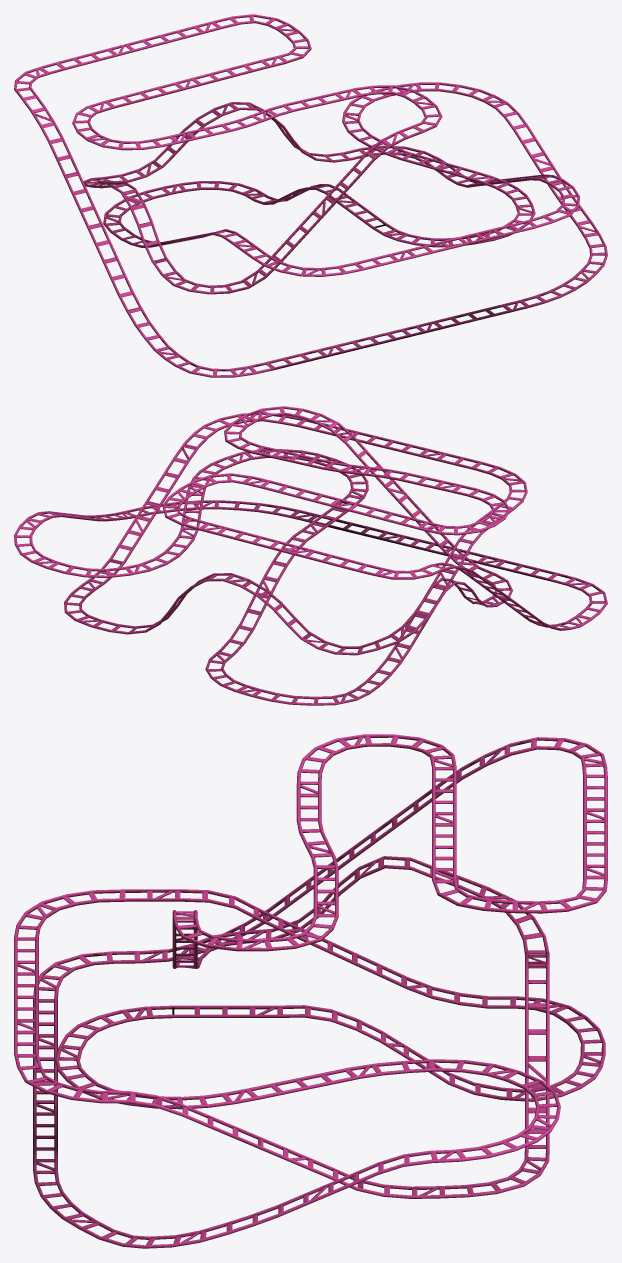
File: schiene.fbx
3 renders of one model, top to bottom at view 1: azimuth 30°, elevation 25°; view 2: azimuth 150°, elevation 25°; view 3: azimuth 270°, elevation 25°, orthographic. The views are drawn at different scales.
Parts seen in each view (by area): view 1: Mesh; view 2: Mesh; view 3: Mesh.
Part boxes in pixels (x1,y1,x2,y2): Mesh: (14,14,607,377); Mesh: (14,406,607,705); Mesh: (14,734,607,1248).
Size of the model in its own units: 2451 by 858 by 2022.
